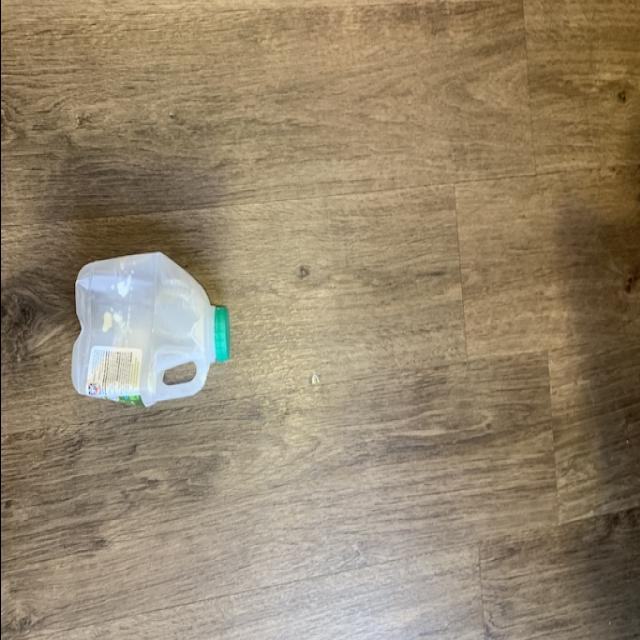HDPEM: (60, 248, 234, 406)
